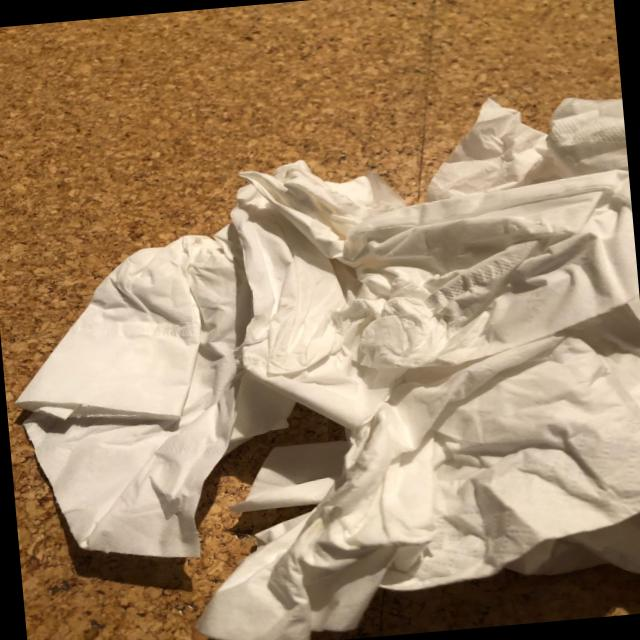organic waste: (145, 297, 640, 640), (211, 124, 640, 439), (0, 223, 315, 583), (412, 87, 630, 214)
